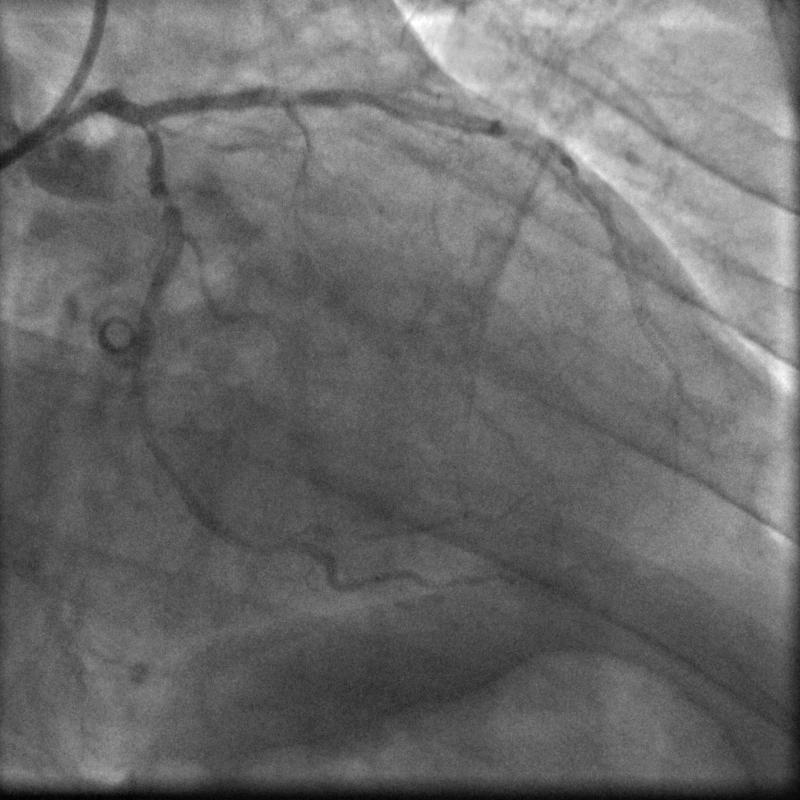Stenosis: (156, 191, 176, 210)
